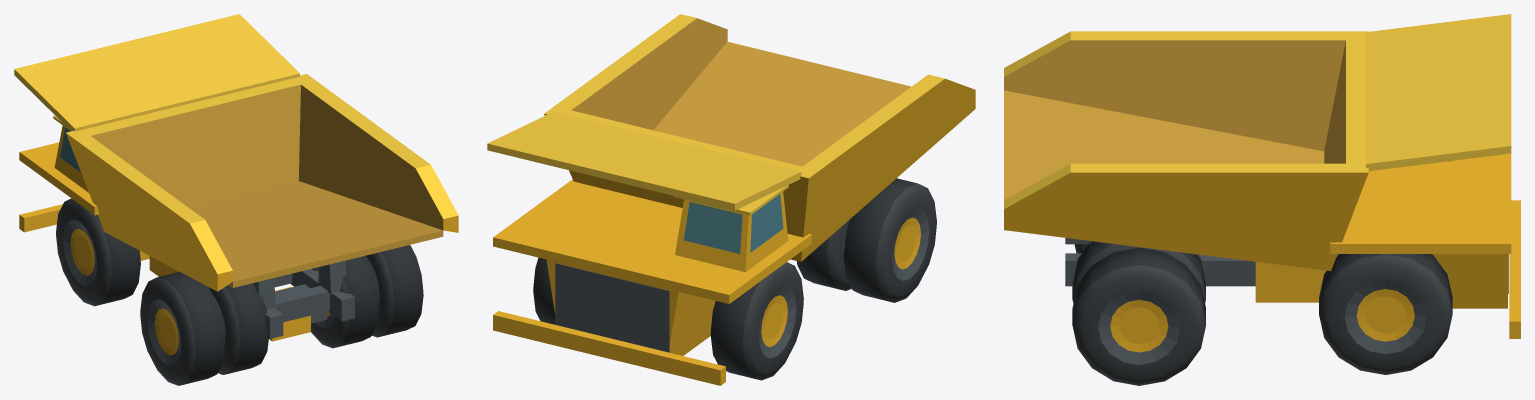
Rendered from mine_truck.glb.
3 renders of one model, left to right at view 1: azimuth 30°, elevation 25°; view 2: azimuth 150°, elevation 25°; view 3: azimuth 270°, elevation 25°, orthographic. The views are drawn at different scales.
Visible parts, largest first — view 1: DumpBed, Chassis, Wheel_RL1, Wheel_FL, Wheel_RR1, Wheel_RL2, Wheel_RR2, Cabin; view 2: DumpBed, Chassis, Wheel_RL1, Wheel_FL, Cabin, Wheel_RL2, Wheel_FR; view 3: DumpBed, Chassis, Wheel_RR1, Wheel_FR, Wheel_RR2.
Boxes of the visible parts, x1,y1,x2,y2 form: DumpBed: (14, 14, 458, 291); Chassis: (19, 142, 354, 341); Wheel_RL1: (140, 272, 224, 385); Wheel_FL: (56, 198, 140, 306); Wheel_RR1: (366, 245, 423, 337); Wheel_RL2: (209, 283, 268, 374); Wheel_RR2: (311, 255, 378, 348); Cabin: (53, 115, 88, 192); DumpBed: (487, 14, 975, 261); Chassis: (493, 179, 811, 385); Wheel_RL1: (843, 178, 936, 302); Wheel_FL: (710, 262, 803, 380); Cabin: (673, 185, 788, 271); Wheel_RL2: (797, 219, 851, 290); Wheel_FR: (533, 257, 555, 324); DumpBed: (1004, 14, 1511, 271); Chassis: (1065, 153, 1520, 338); Wheel_RR1: (1072, 248, 1205, 385); Wheel_FR: (1319, 254, 1452, 374); Wheel_RR2: (1072, 241, 1205, 303).
Bounding box in the file's own units: 9.76 × 7.71 × 15.08.
